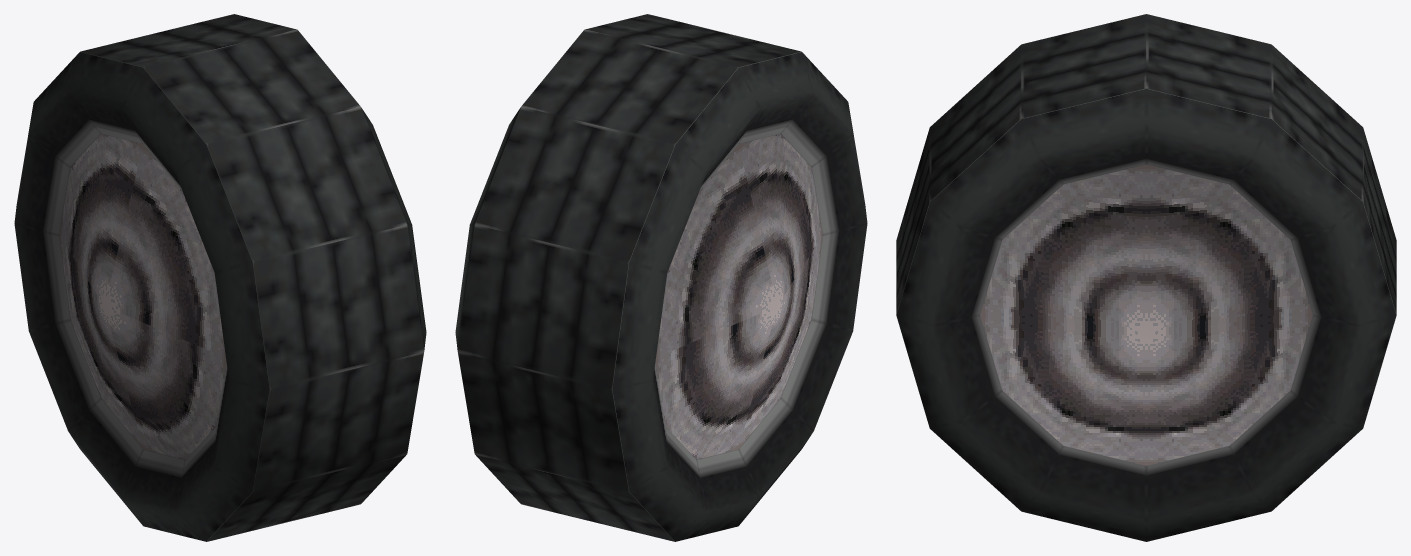
Rendered from DefaultWheel_glenshit.glb.
3 renders of one model, left to right at view 1: azimuth 30°, elevation 25°; view 2: azimuth 150°, elevation 25°; view 3: azimuth 270°, elevation 25°, orthographic.
Visible parts, largest first — view 1: wheel; view 2: wheel; view 3: wheel.
Part boxes in pixels (box(x1,y1,x2,y2)): wheel: box(14, 14, 426, 541); wheel: box(455, 14, 867, 541); wheel: box(896, 14, 1396, 541).
Bounding box in the file's own units: 0.3701 × 0.7 × 0.7.
Materials: 2 (2 with a texture image).
